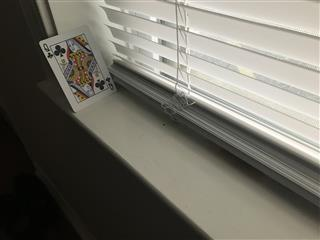QueenOfClubs: (37, 23, 117, 112)
